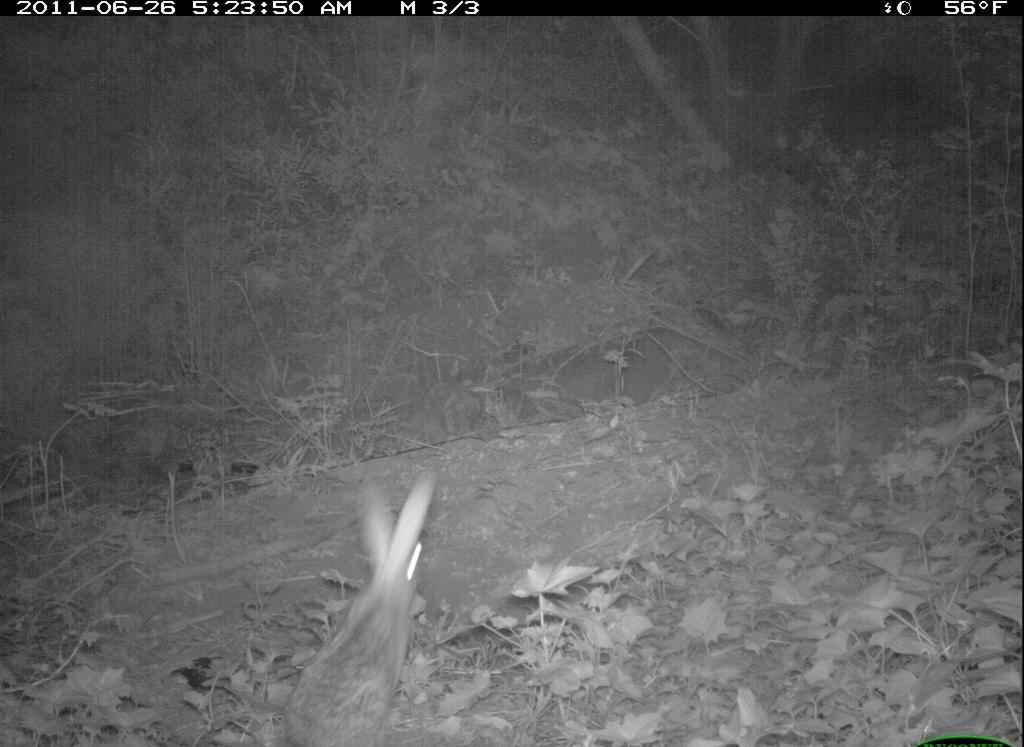rabbit: (272, 455, 477, 744)
